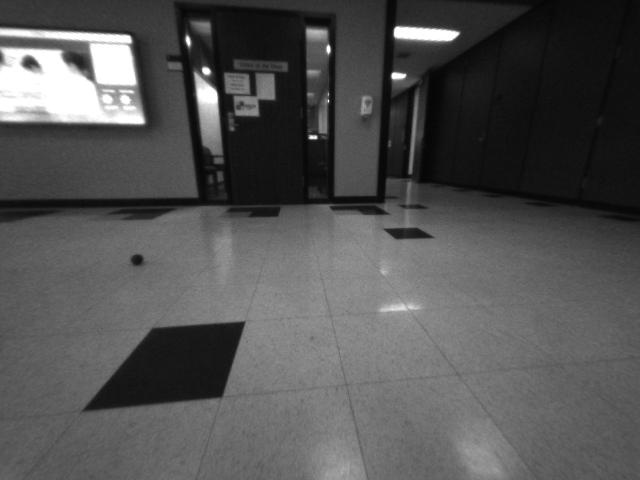dogtoy: (123, 247, 154, 271)
